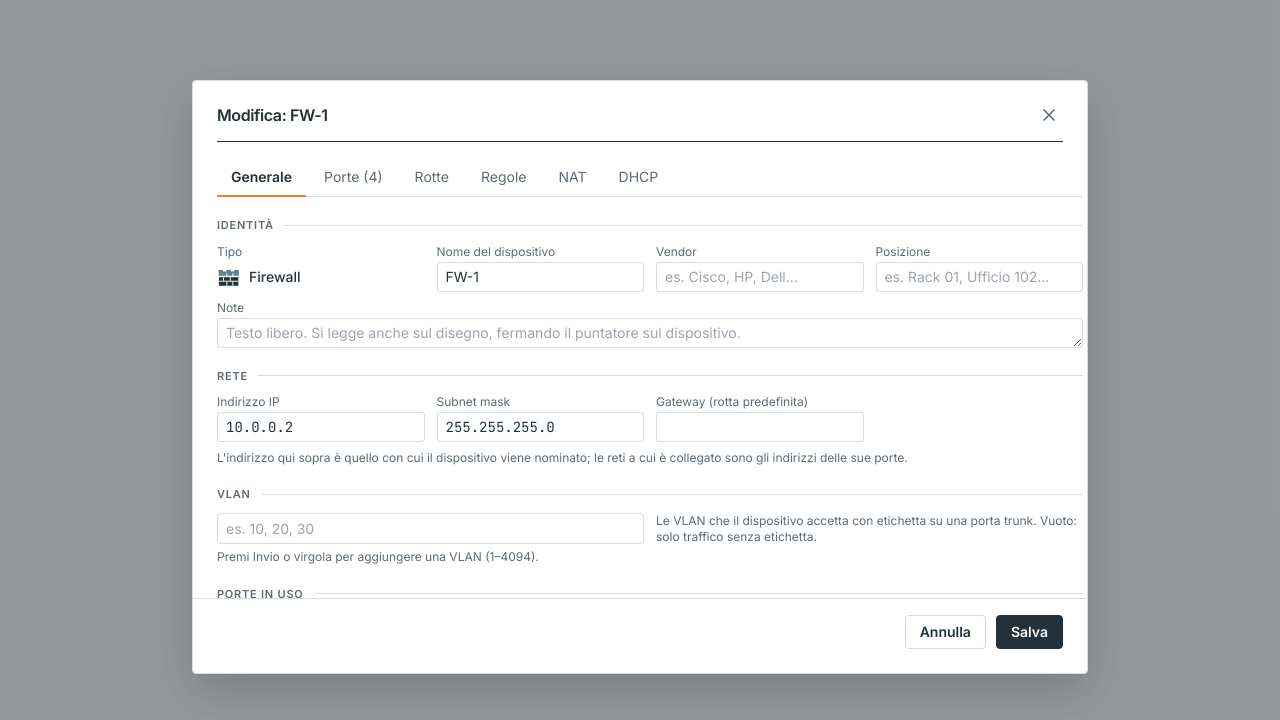
Scenario: InspectorModal — Regole › starts empty, explains what decides without rules, and that with one a side with no zone blocks the rest
Click the button "Regole" at (504,178), box top-left (467, 158), bottom-right (540, 197)
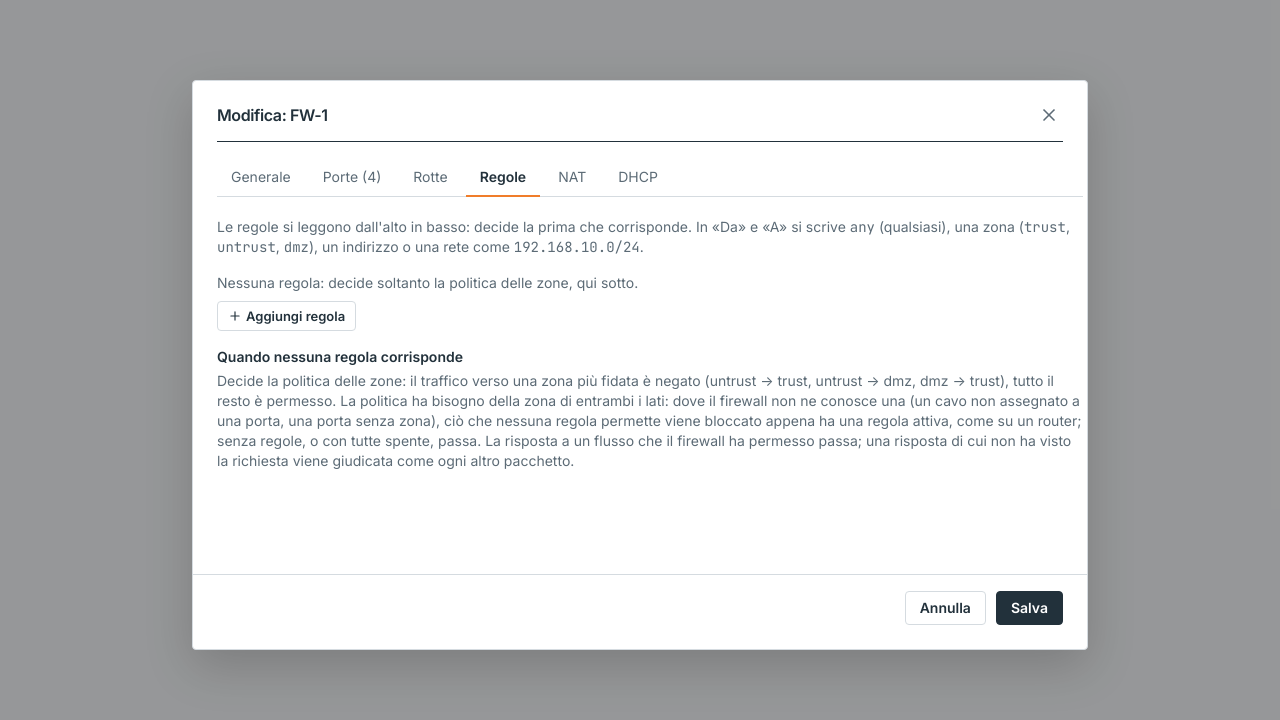
Check: the text "Nessuna regola: decide soltanto la politica delle zone" is shown, box top-left (217, 274), bottom-right (638, 291)
Check: the element "Quando nessuna regola corrisponde" shows "untrust → trust, untrust → dmz, dmz → trust", box top-left (217, 372), bottom-right (1082, 469)
